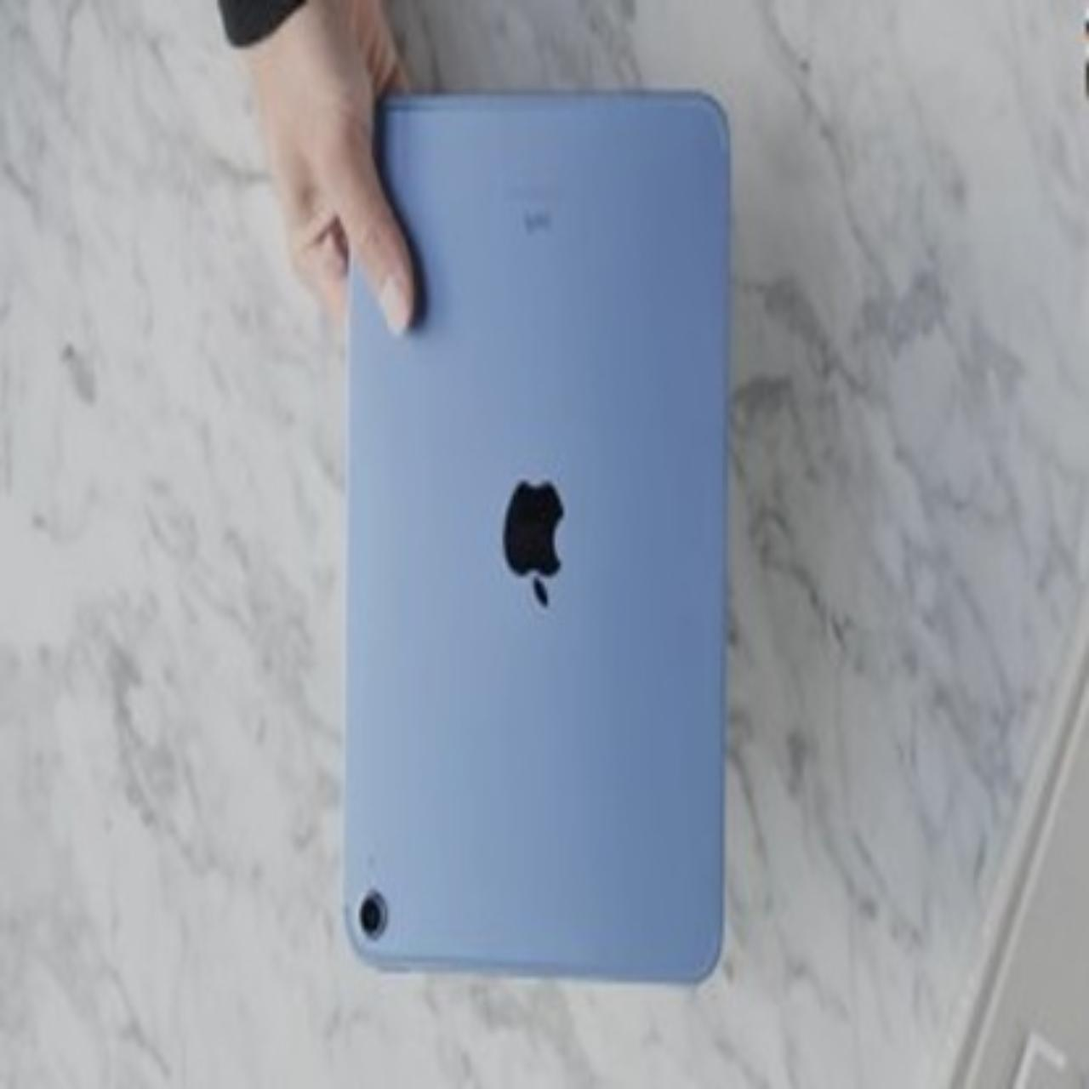Tablet_PC: (319, 79, 767, 989)
